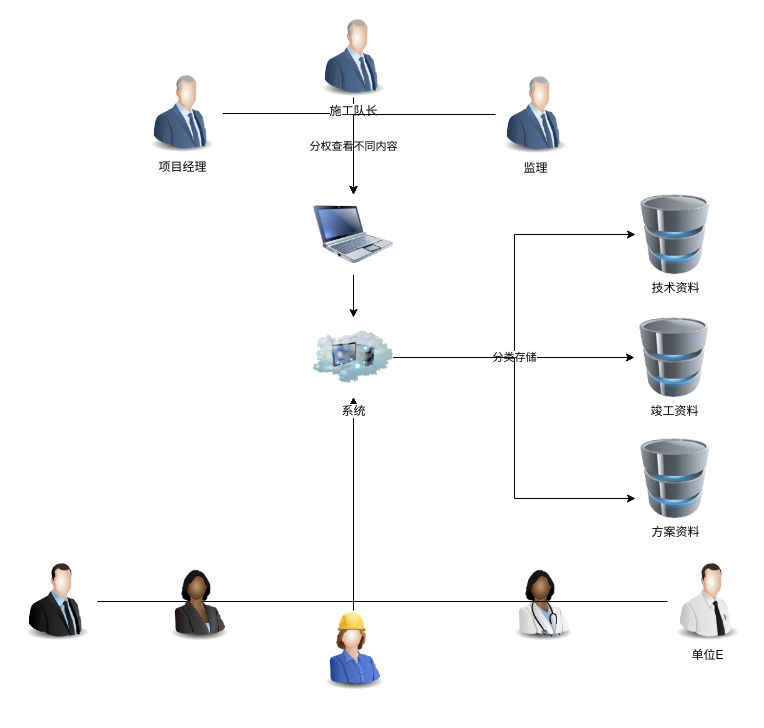
The diagram is 764 pixels wide and 728 high, and some of its shapes have lost their labels. Here are the shapes that lost their labels. From the top down, the box of each, then its label:
(17, 561, 97, 641): 单位A
(158, 561, 238, 641): 单位B
(502, 561, 582, 641): 单位D
(313, 610, 393, 690): 单位C
